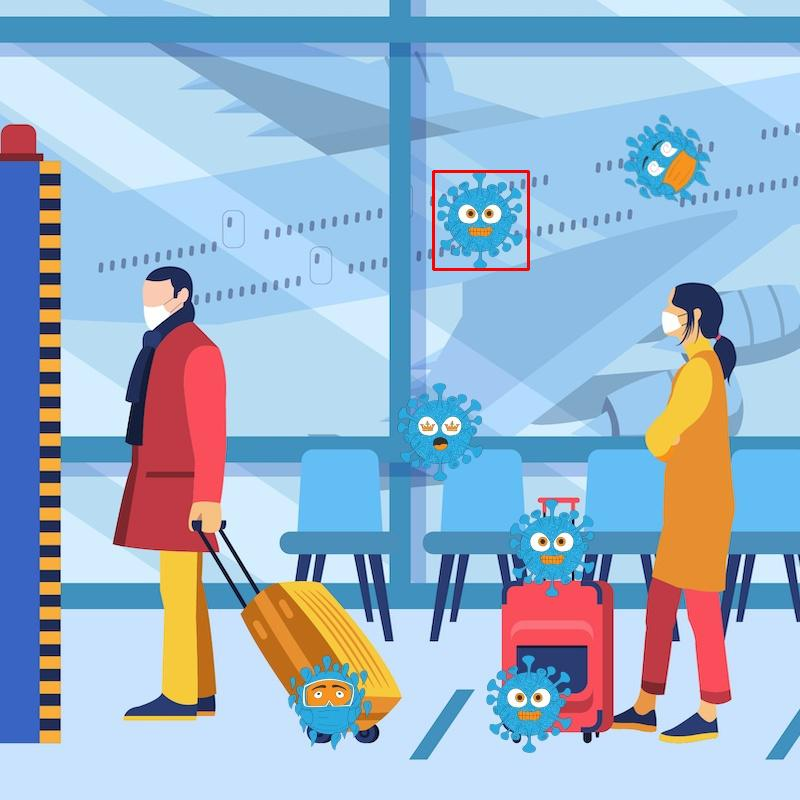corona1: (482, 651, 576, 756), (517, 500, 592, 594)
corona4: (392, 376, 486, 481)
doctor: (279, 656, 374, 752)
paitent: (627, 110, 713, 208)
